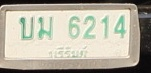txt21: (18, 15, 35, 40)
txt28: (37, 16, 54, 41)
